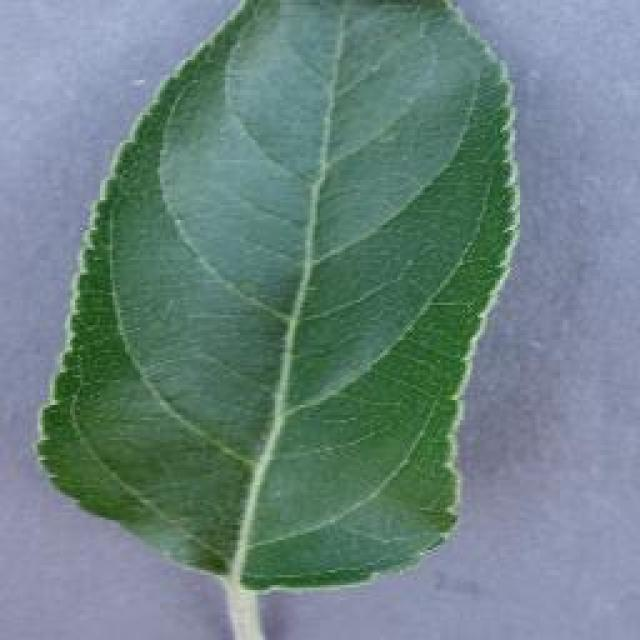apple healthy: (32, 0, 522, 632)
